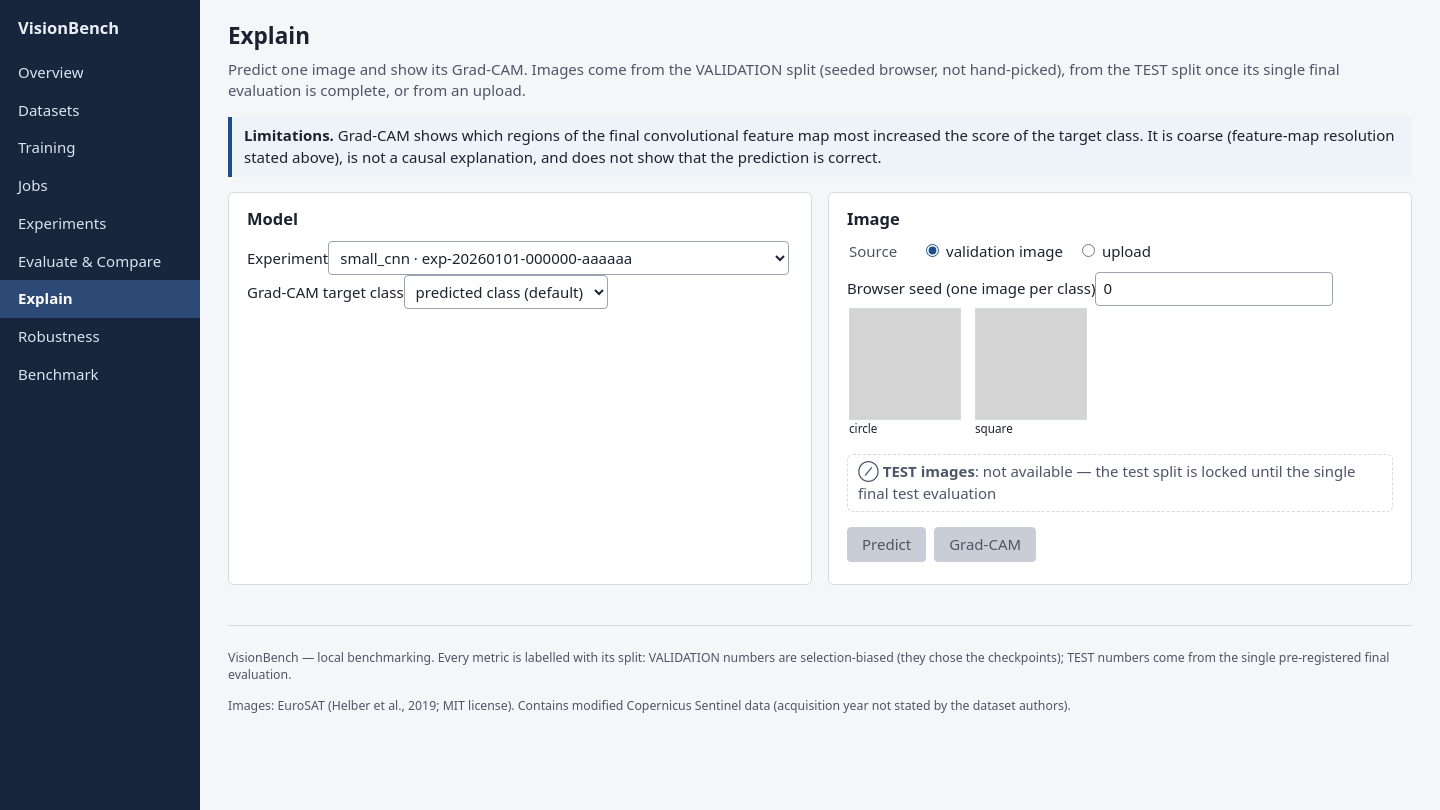
Explain › shows an inference_busy refusal distinctly
Click the button named "circle: circle/c1.png": [905, 372] box [847,306,963,439]
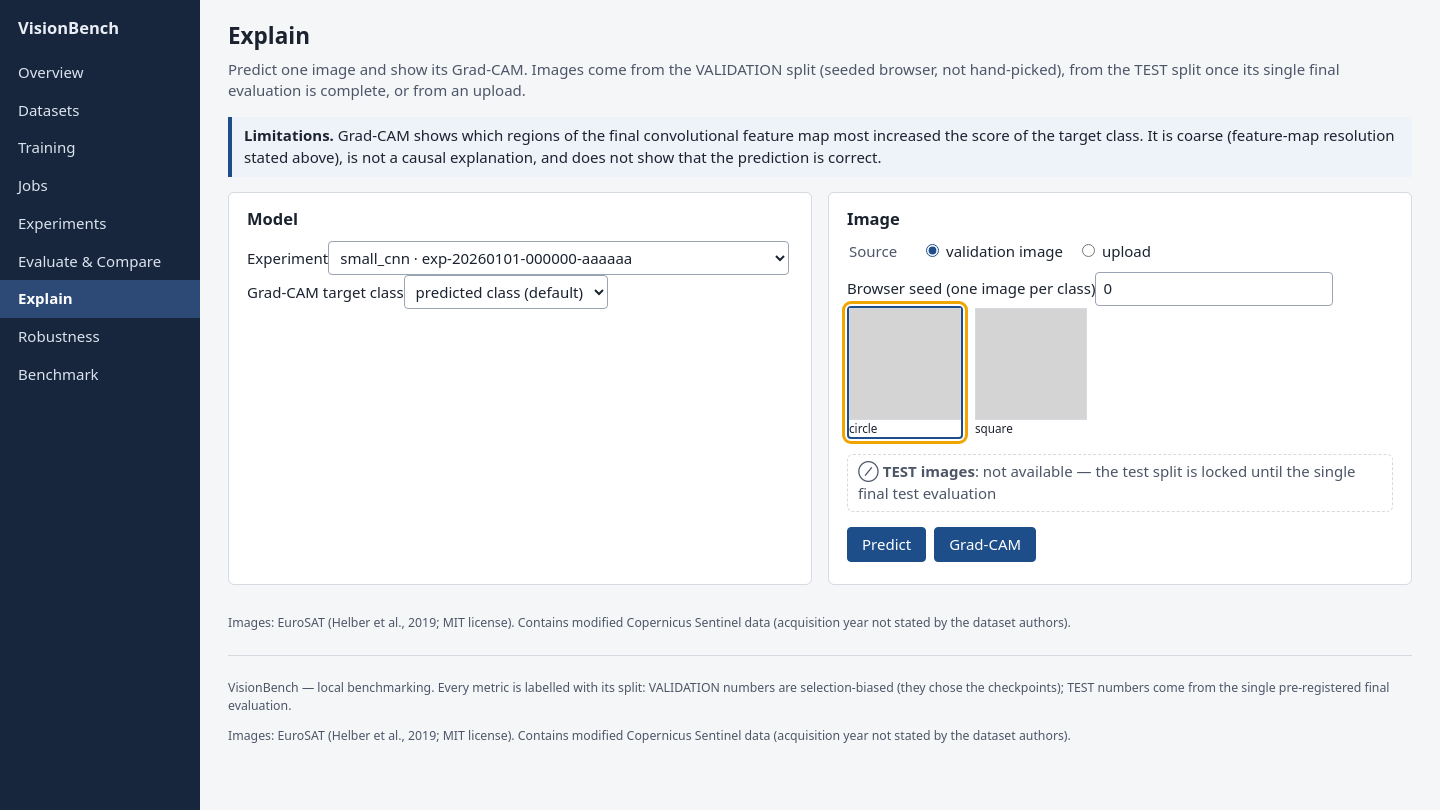
Click the button "Grad-CAM": [985, 544] box [934,526,1036,562]
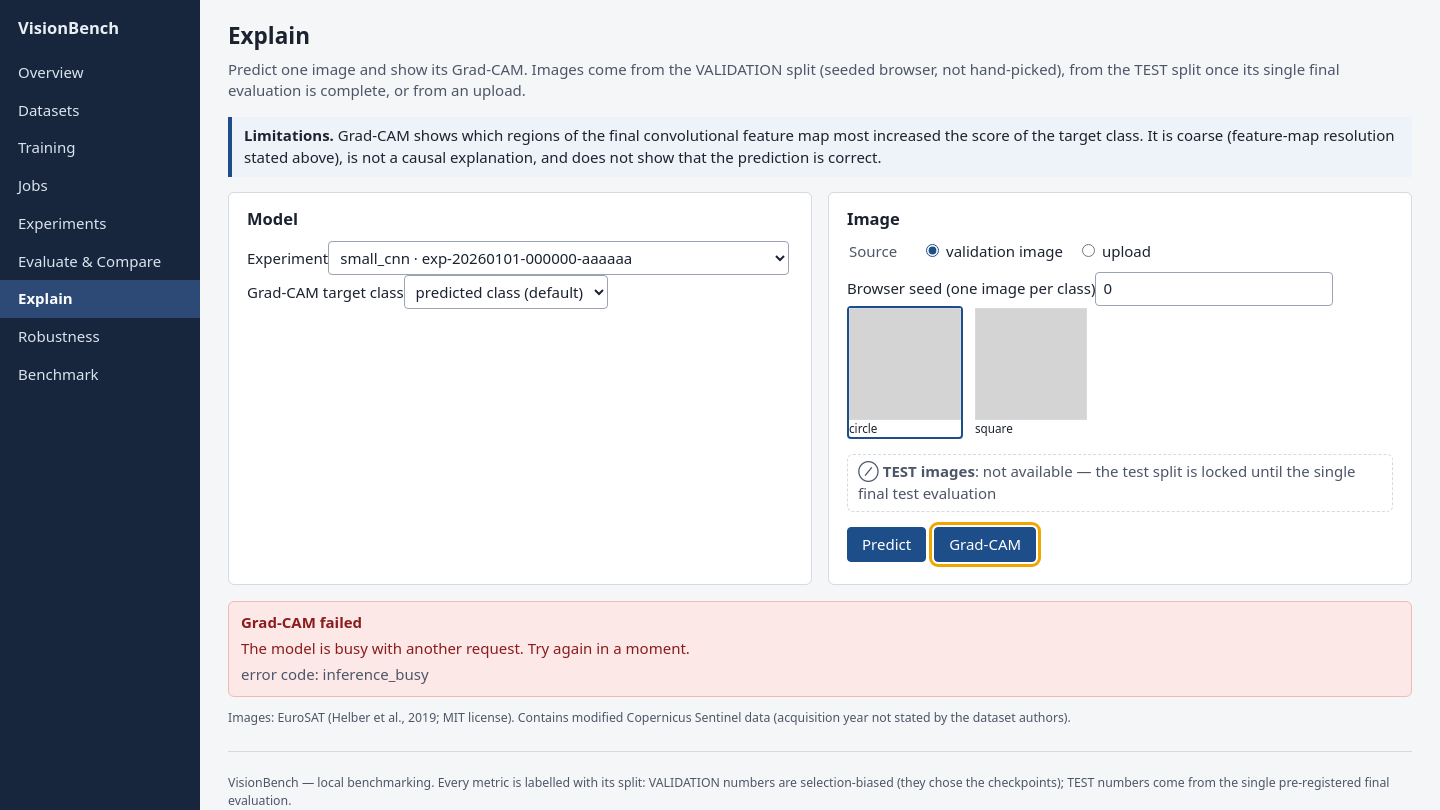
Expected: the text "busy with another request" is shown, [241,638,690,658]
